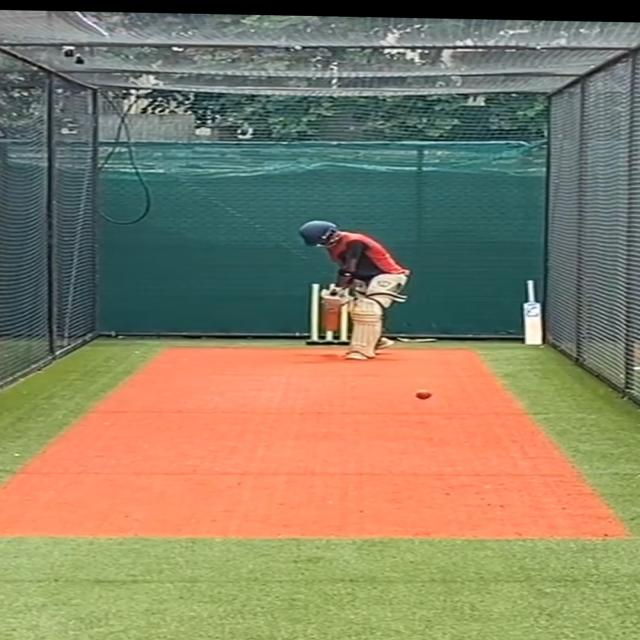ball: (409, 388, 438, 402)
stump: (306, 282, 356, 346)
